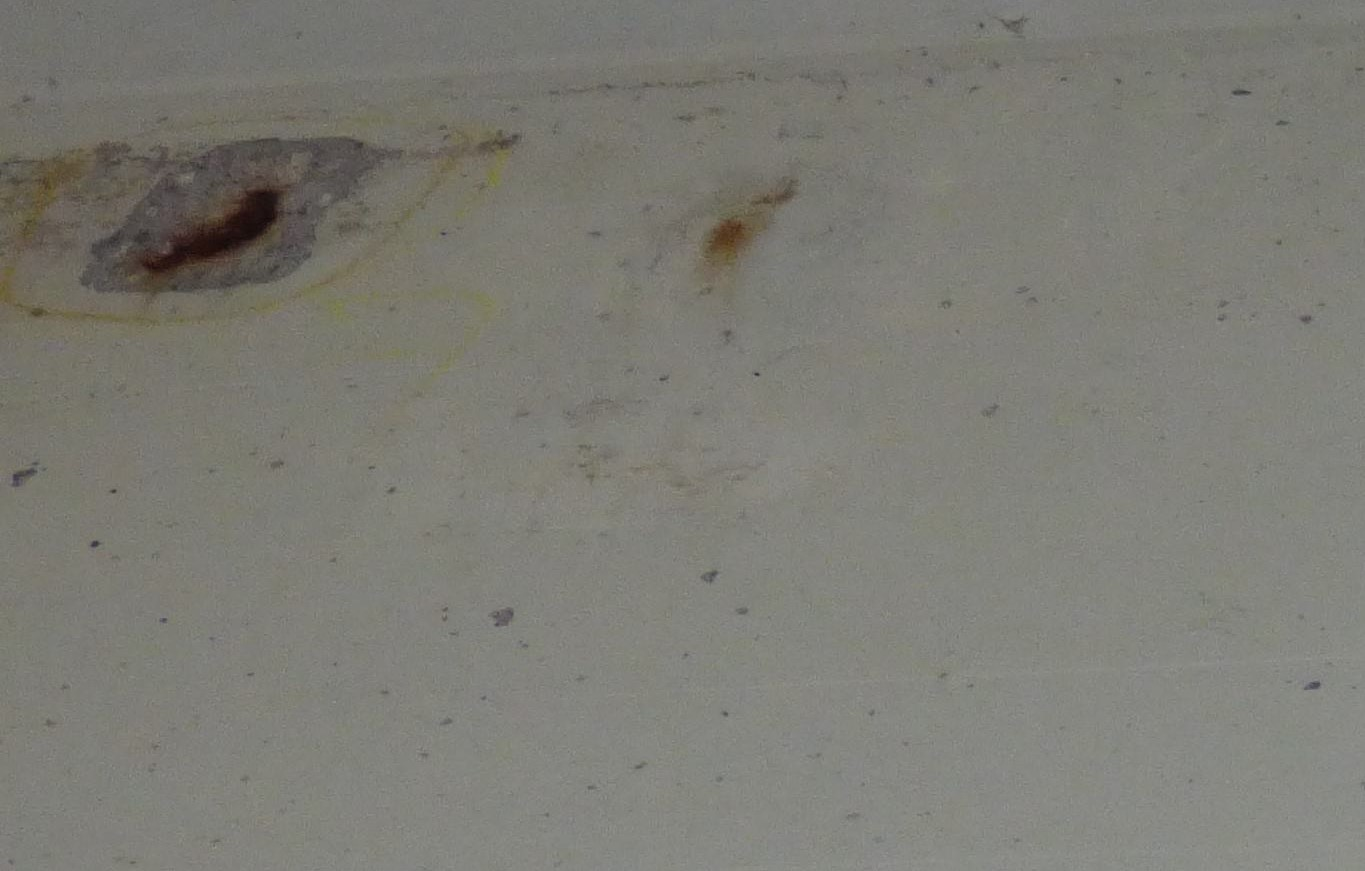Corrosion: (693, 183, 799, 290)
Exposed reinforcement: (140, 190, 283, 273)
Spalling: (78, 136, 373, 296)
